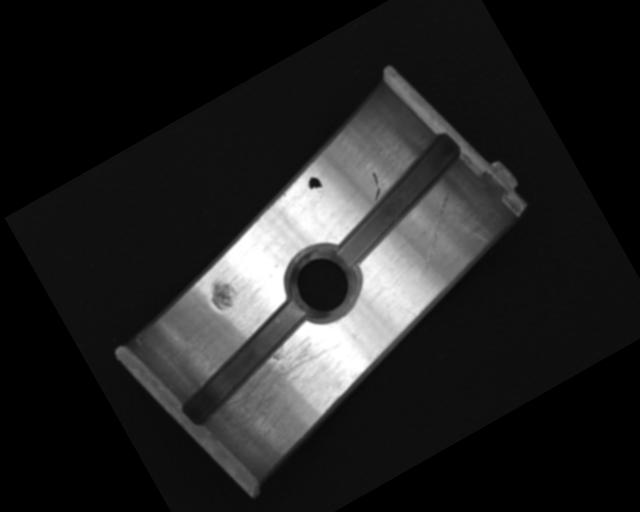blot: (304, 173, 326, 198)
bruise: (203, 274, 243, 315)
gap: (312, 129, 482, 268), (161, 294, 330, 428)
hole: (275, 236, 370, 333)
nick: (392, 188, 482, 278), (361, 169, 388, 202)
scratch: (187, 316, 367, 464)
